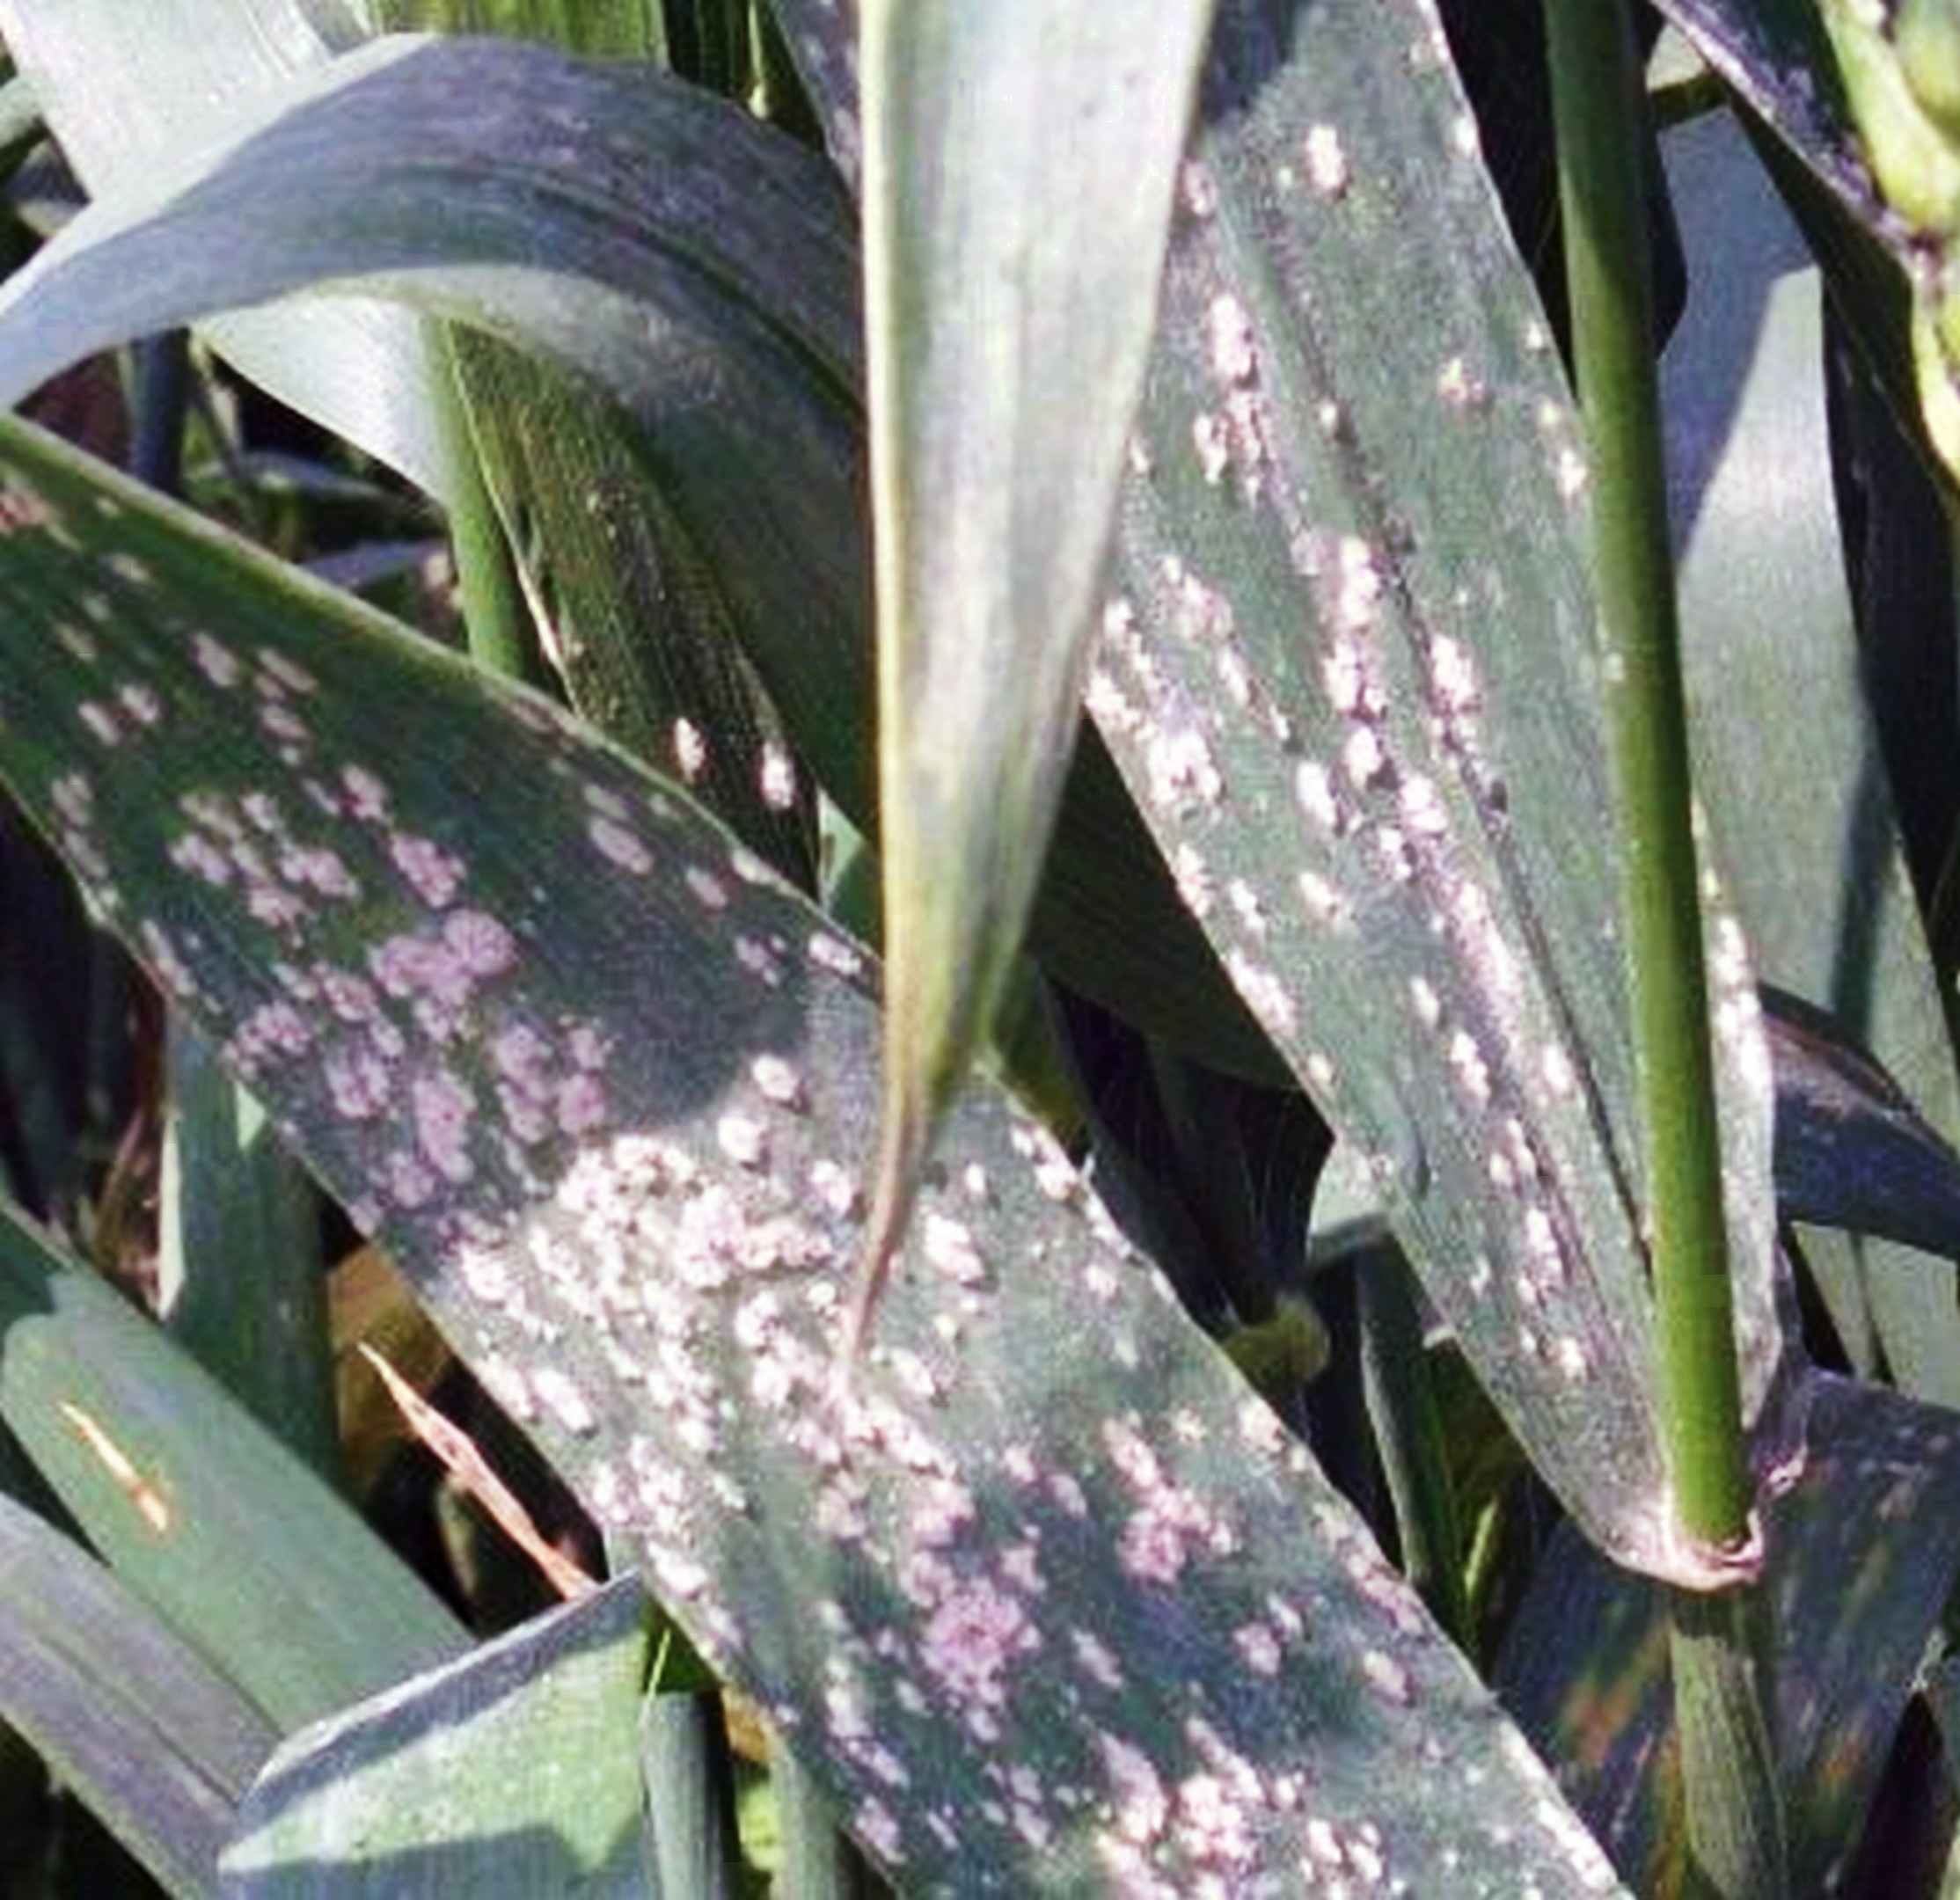Powdery Mildew: (164, 765, 1477, 1884)
